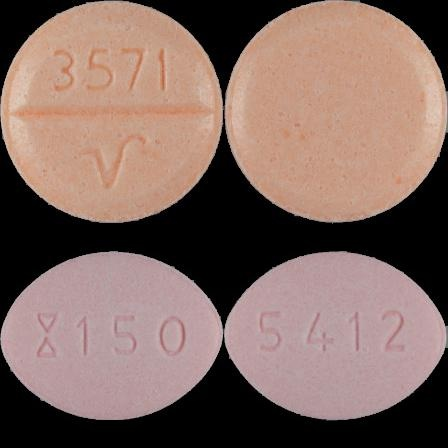68788-9920: (0, 0, 224, 224)
